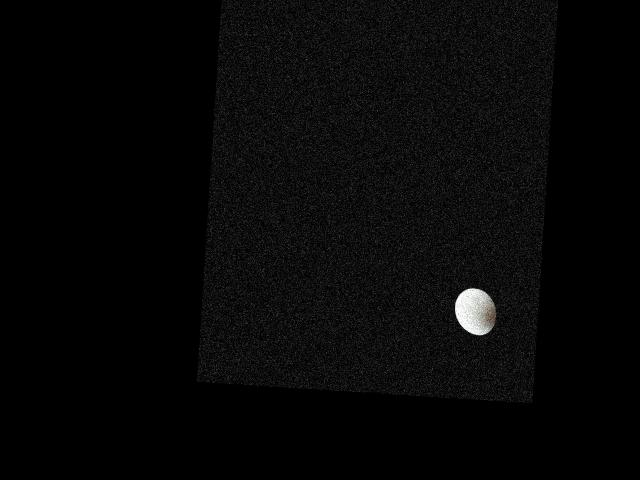egg: (453, 287, 497, 336)
